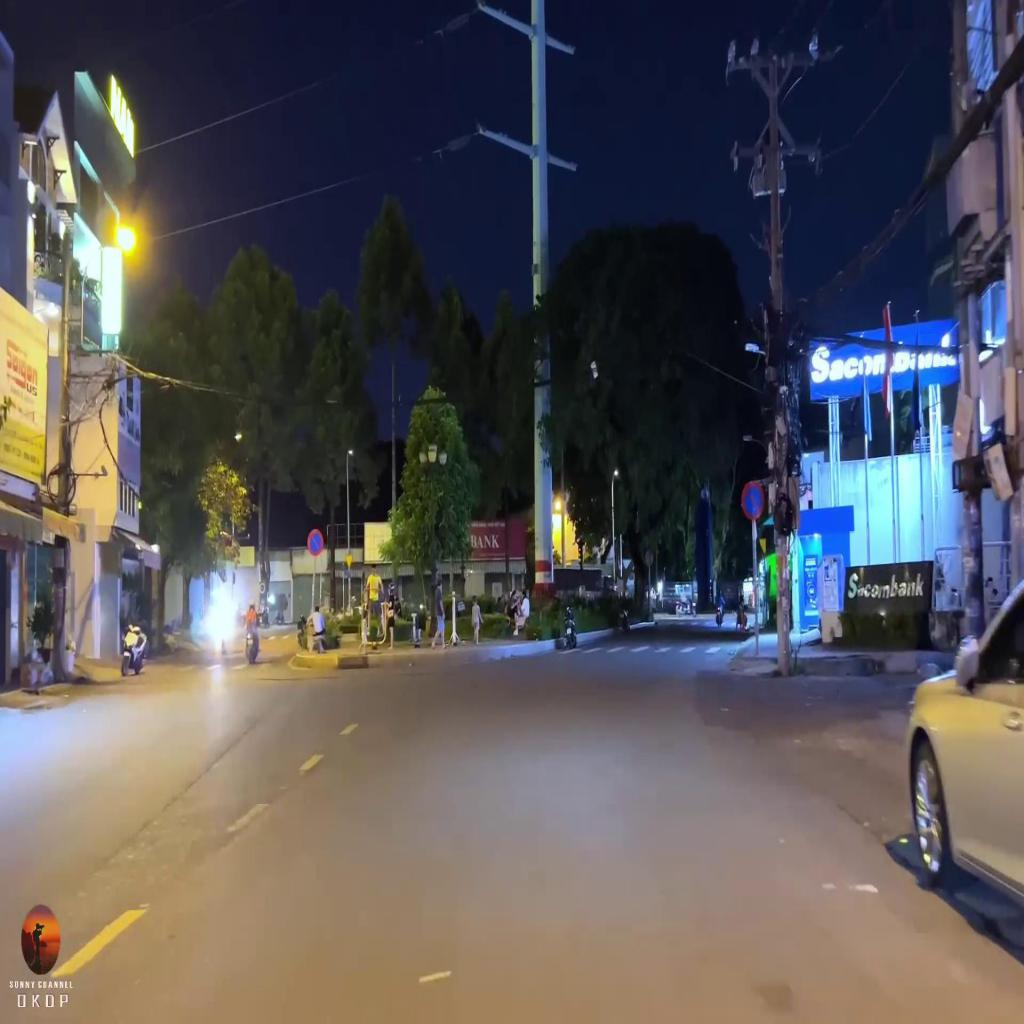cam_do_xe: (742, 482, 764, 520), (307, 528, 324, 557)
giao_nhau_voi_duong_uu_tien: (346, 554, 352, 572)
